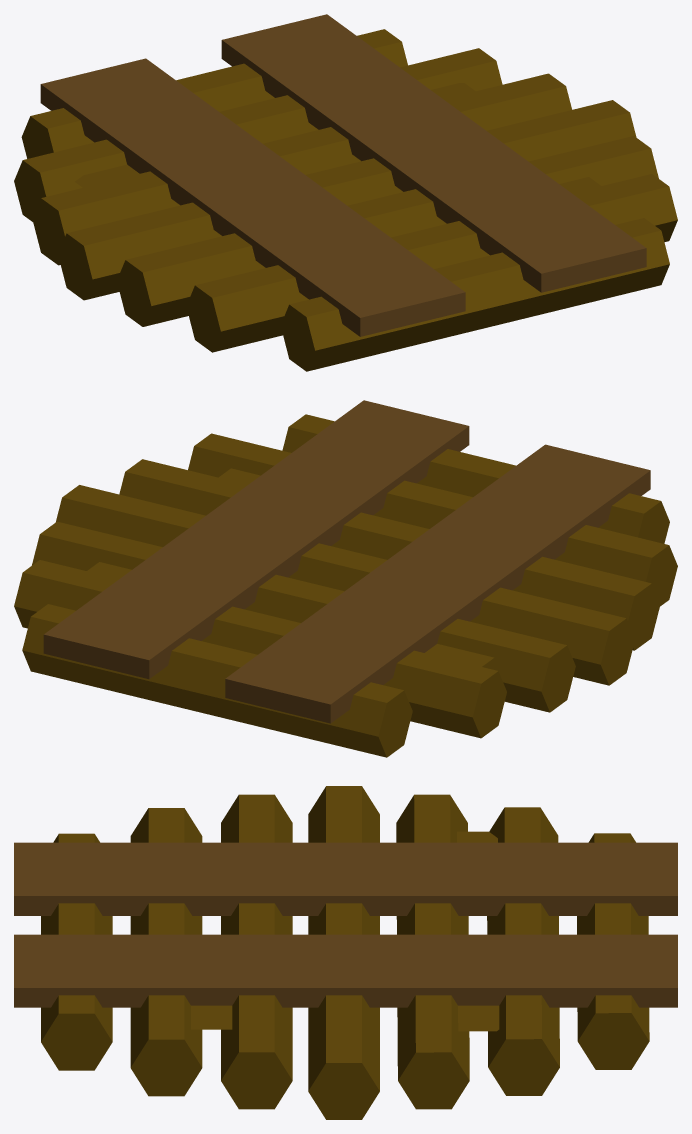
File: PotLid.fbx
3 renders of one model, top to bottom at view 1: azimuth 30°, elevation 25°; view 2: azimuth 150°, elevation 25°; view 3: azimuth 270°, elevation 25°, orthographic. The views are drawn at different scales.
Parts seen in each view (by area): view 1: Cylinder.031; view 2: Cylinder.031; view 3: Cylinder.031.
Part boxes in pixels (<box>): Cylinder.031: <box>14,14,677,371</box>; Cylinder.031: <box>14,400,677,757</box>; Cylinder.031: <box>14,786,677,1119</box>.
Bounding box in the file's own units: 200 × 197 × 21.32.
